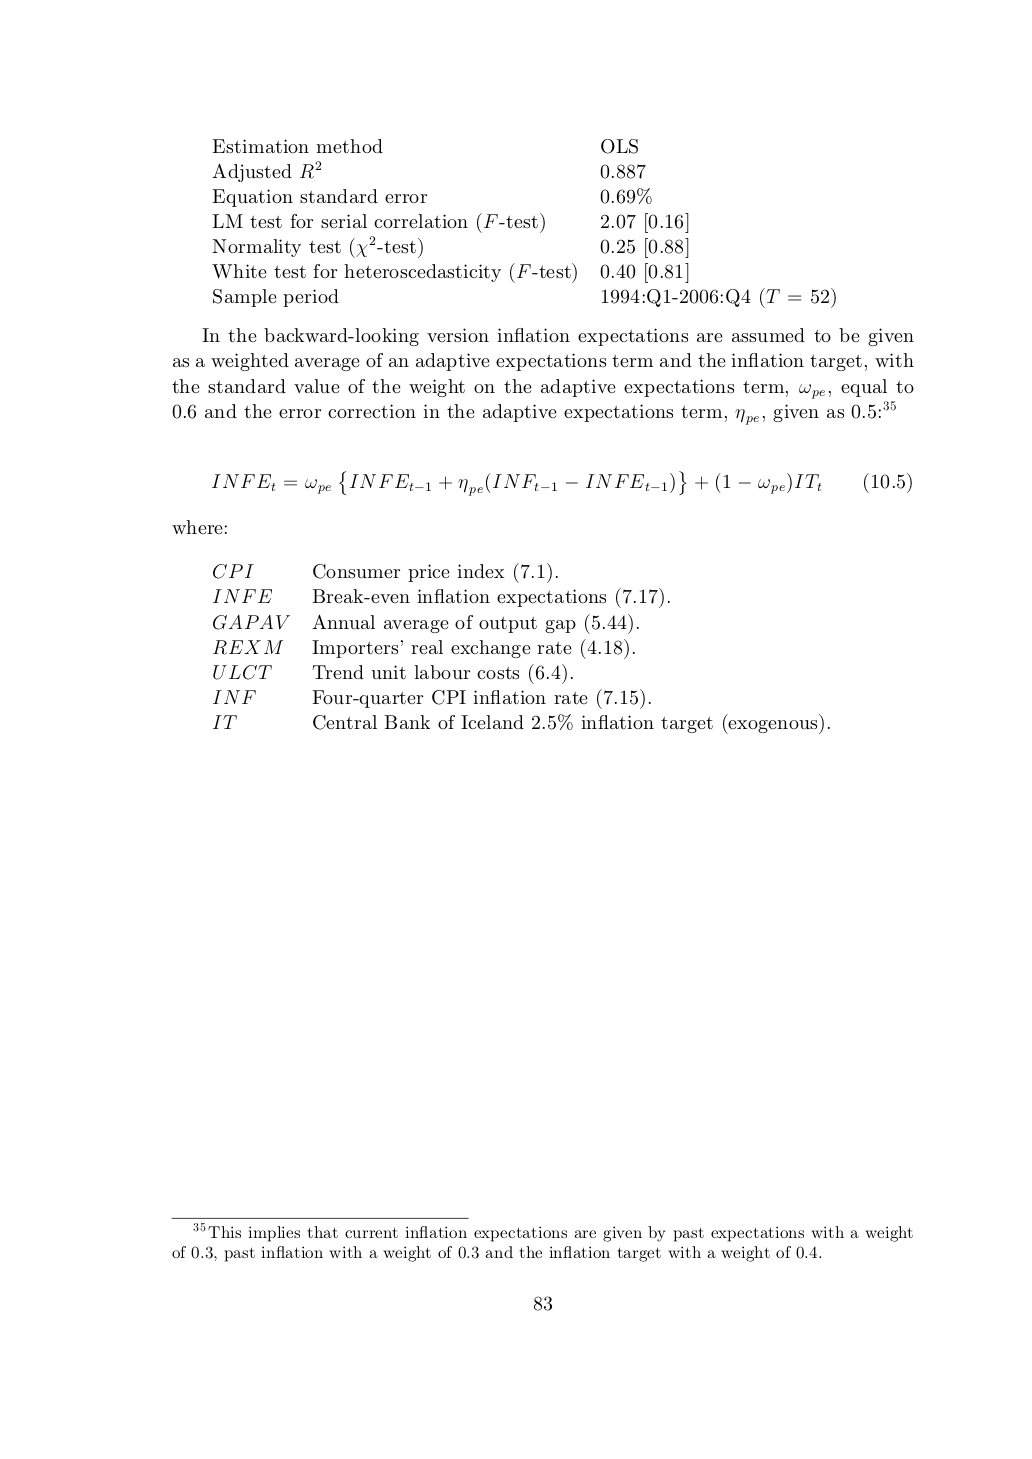Table: (212, 140, 835, 307)
formula: (211, 470, 911, 496)
